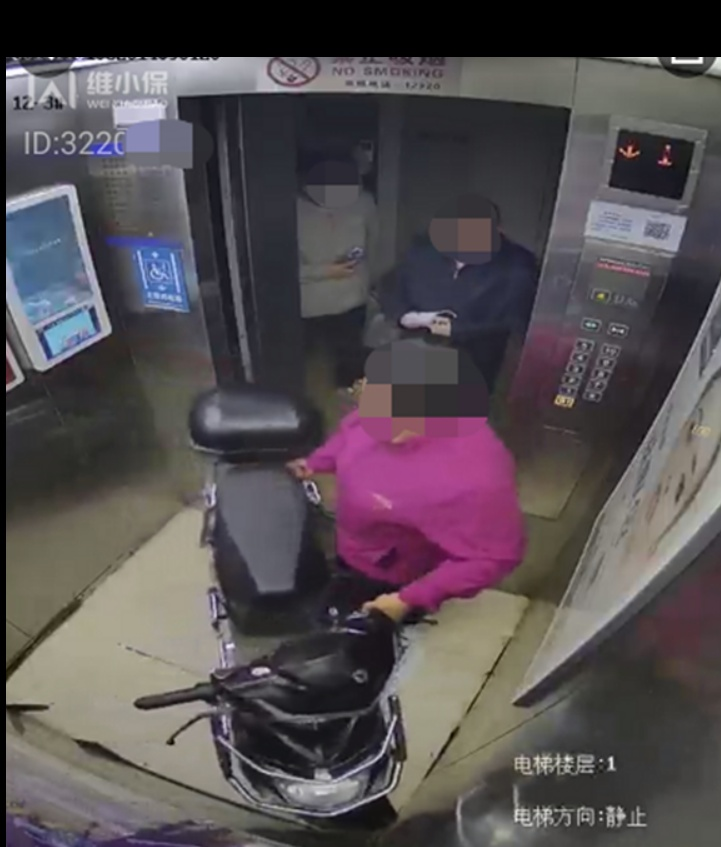ebike: (150, 379, 401, 834)
person: (322, 328, 534, 619)
